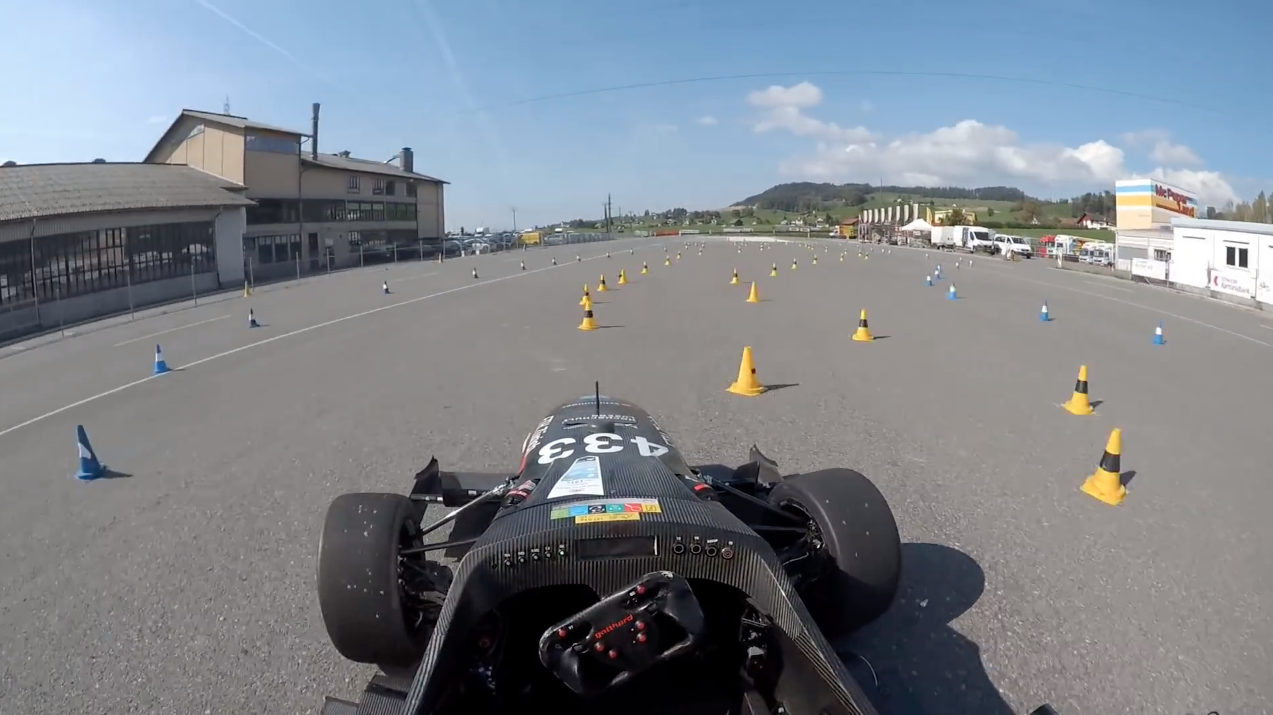lcone: (65, 421, 109, 485), (146, 341, 174, 378), (245, 307, 261, 332)
rcone: (1068, 421, 1139, 509), (1053, 357, 1100, 420), (724, 341, 770, 402), (846, 305, 877, 346), (572, 296, 603, 334)
